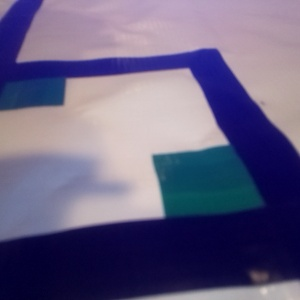bottom_right: (76, 45, 170, 81), (87, 1, 149, 6)
top_left: (1, 124, 111, 210), (207, 21, 283, 51)
